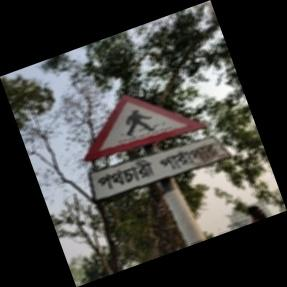Pedestrian-crossing: (79, 96, 240, 206)
